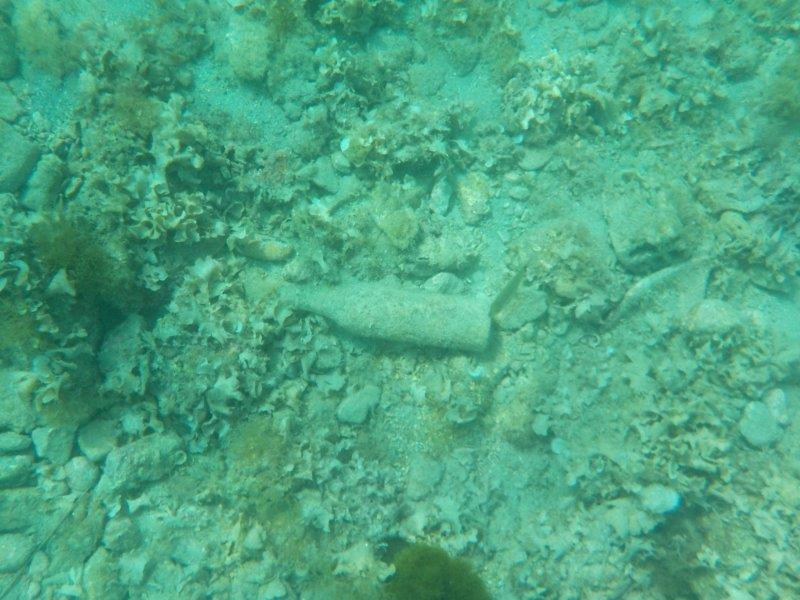bottle: (276, 277, 497, 355)
